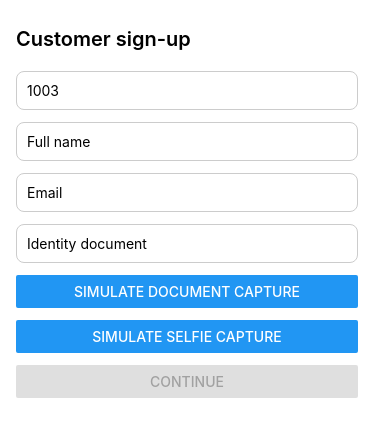
OnboardingScreen › shows an error if KYC rejects (identity_document "REJECT-...")
Type "Ana Torres" into the field with test id "input-name" at {"x": 187, "y": 141}, box [16,122,358,160]
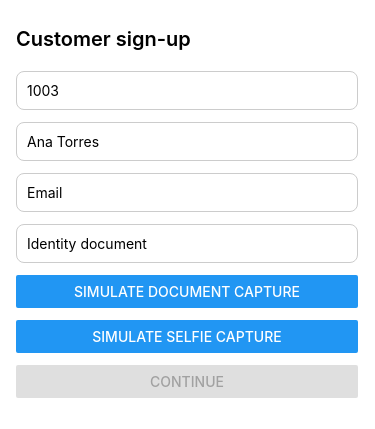
Type "ana@bp.test" into the field with test id "input-email" at {"x": 187, "y": 192}, box [16,172,358,212]
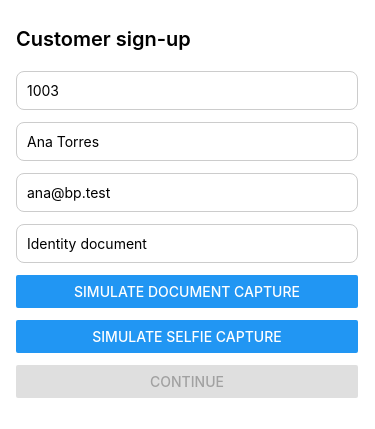
Type "REJECT-1" into the field with test id "input-document" at {"x": 187, "y": 243}, box [16,224,358,262]
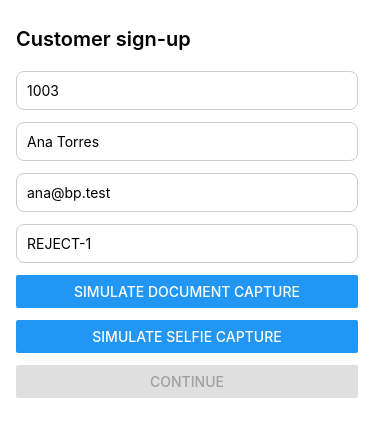
Click the button "Simulate document capture" at {"x": 187, "y": 291}, box [16,274,358,308]
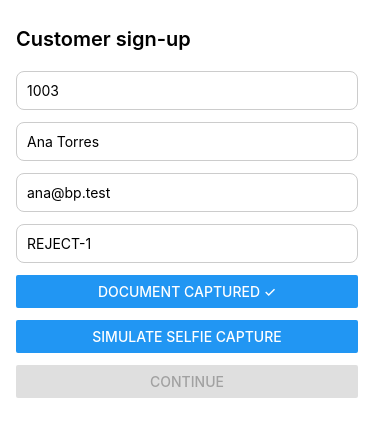
Click the button "Simulate selfie capture" at {"x": 187, "y": 336}, box [16,320,358,352]
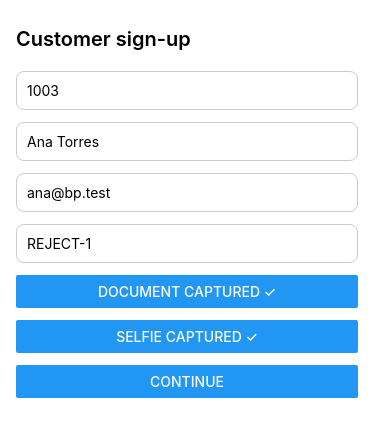
Click the button "Continue" at {"x": 187, "y": 381}, box [16,364,358,398]
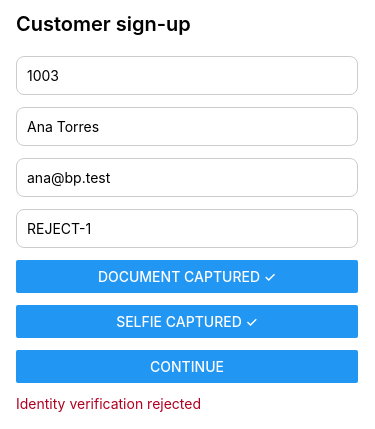
Now the message reads "Identity verification rejected", box [16,395,201,412]
